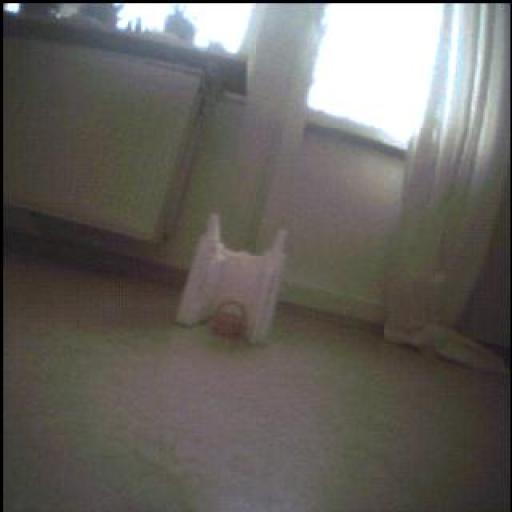Basket: (212, 302, 249, 339)
